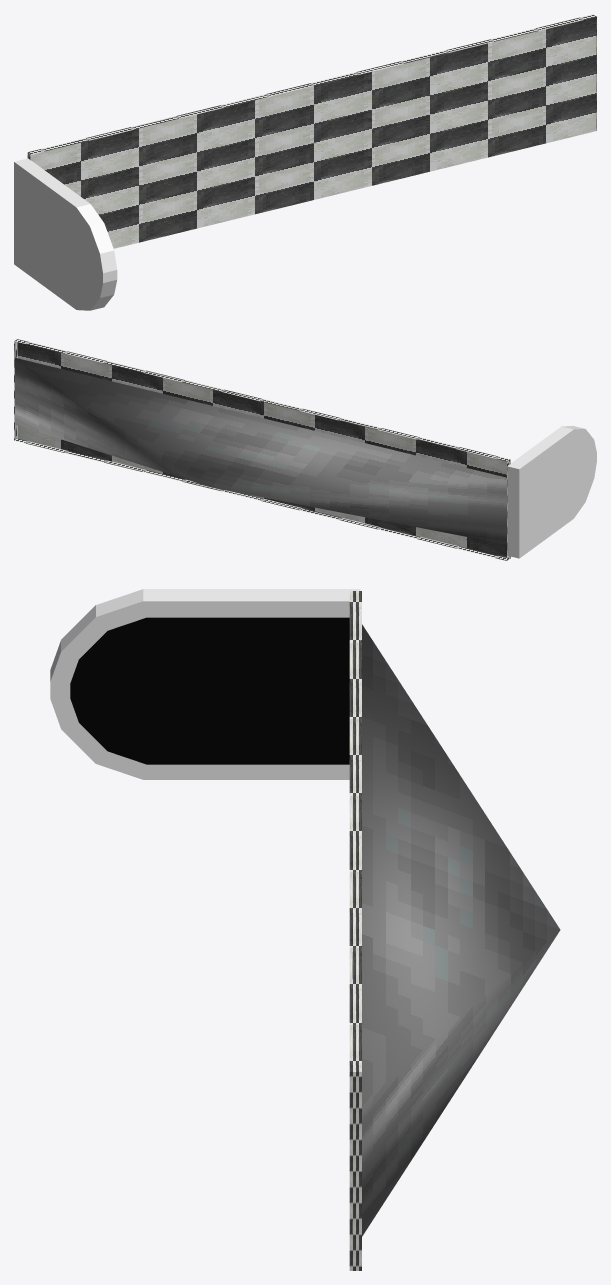
The model's file is runway.obj.
3 views of the same model, one above another, from view 1: azimuth 30°, elevation 25°; view 2: azimuth 150°, elevation 25°; view 3: azimuth 270°, elevation 25° (orthographic). The views are drawn at different scales.
Visible parts, largest first — view 1: Plane.004_Plane.005; view 2: Plane.004_Plane.005; view 3: Plane.004_Plane.005.
Boxes of the visible parts, bbox=[...] form: Plane.004_Plane.005: bbox=[14, 14, 596, 310]; Plane.004_Plane.005: bbox=[14, 339, 596, 560]; Plane.004_Plane.005: bbox=[50, 589, 560, 1270].
Size of the model in its own units: 49.81 by 9.37 by 21.79.
